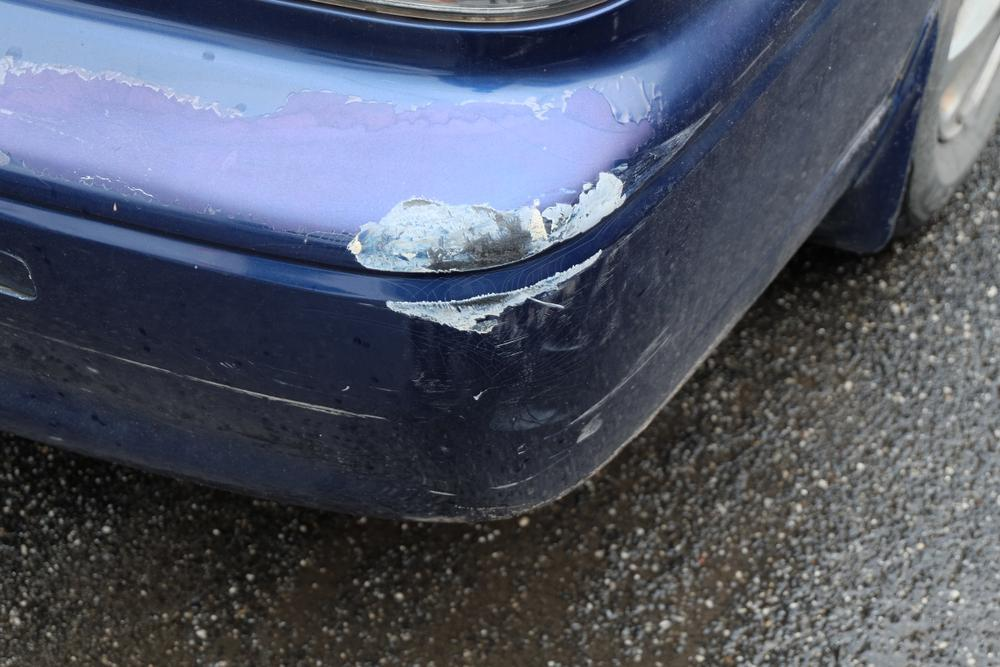scratch: (348, 116, 716, 331)
